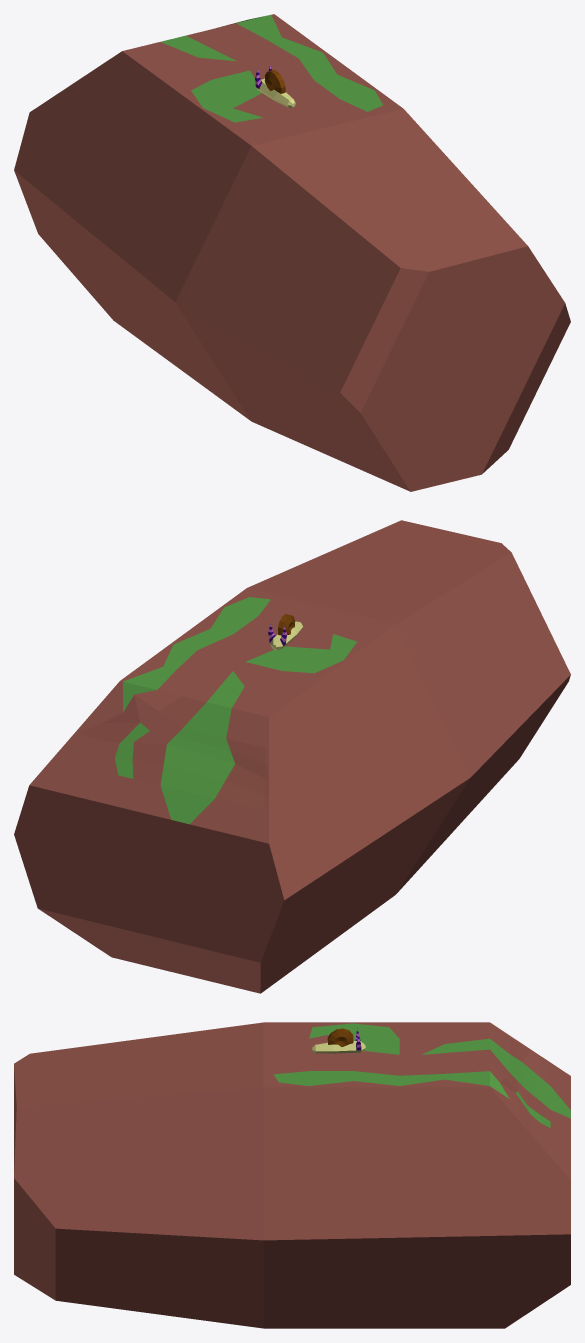
File: Snail with log (hopefully animated now).fbx
3 views of the same model, one above another, from view 1: azimuth 30°, elevation 25°; view 2: azimuth 150°, elevation 25°; view 3: azimuth 270°, elevation 25° (orthographic). The views are drawn at different scales.
Parts seen in each view (by area): view 1: Snail Log, Shell; view 2: Snail Log, Shell; view 3: Snail Log, Shell.
Boxes of the visible parts, <box> form: Snail Log: <box>14,14,570,491</box>; Shell: <box>255,66,295,107</box>; Snail Log: <box>14,520,570,993</box>; Shell: <box>268,614,302,649</box>; Snail Log: <box>14,1022,570,1328</box>; Shell: <box>312,1028,365,1053</box>.
Size of the model in its own units: 126 by 119 by 228.
